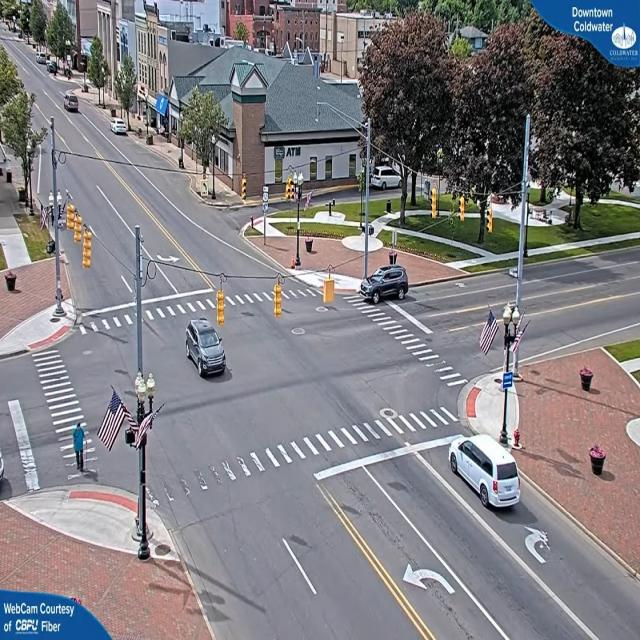car: (448, 437, 522, 510), (184, 320, 227, 377), (362, 270, 410, 304), (112, 121, 131, 138), (64, 93, 79, 113)
